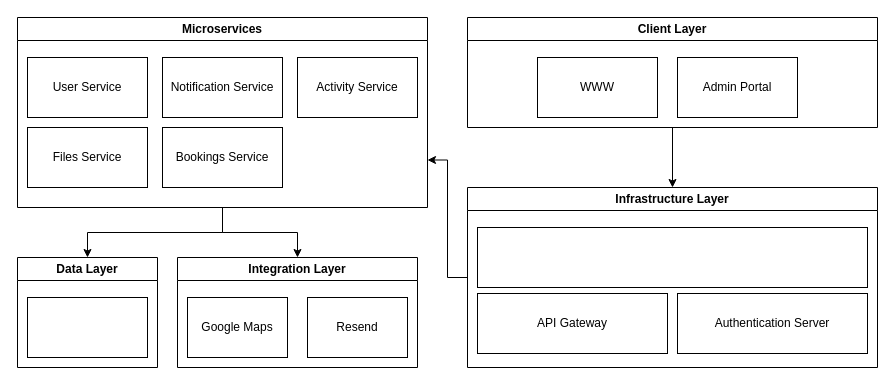
The diagram is 895 pixels wide and 385 high, and some of its shapes have lost their labels. The shapes that lost their labels are listed below. From the top down, each one's centre as x and y in pixels, then its label:
At point 672,257: "Web Server, Firewall, Monitoring & Logging".
At point 87,327: "Database".
